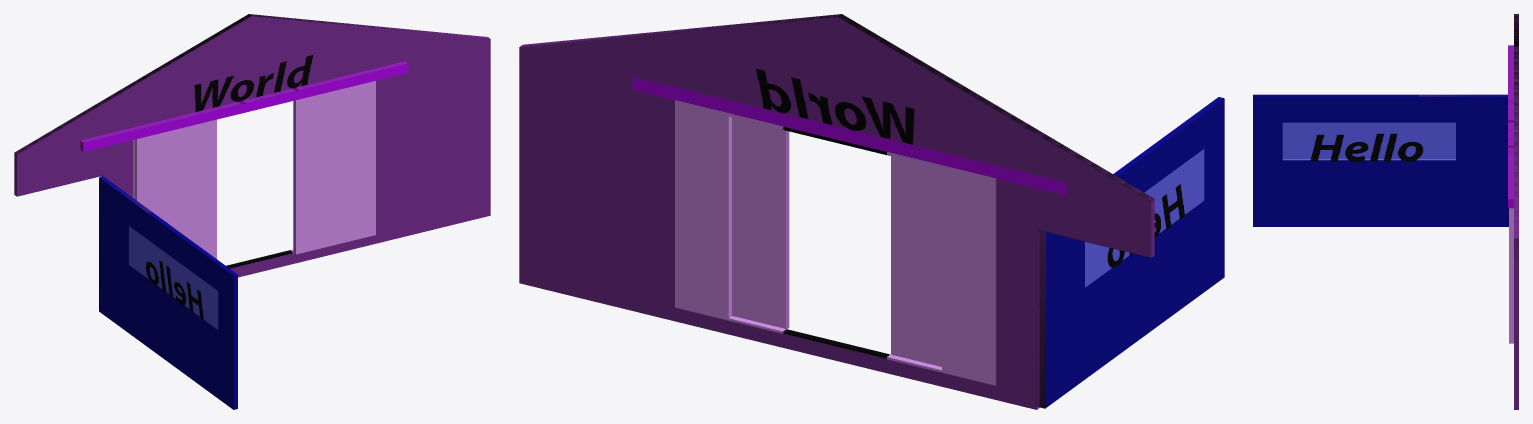
File: Fusebox-Exterior.fbx
3 views of the same model, side by side, from view 1: azimuth 30°, elevation 25°; view 2: azimuth 150°, elevation 25°; view 3: azimuth 270°, elevation 25° (orthographic). The views are drawn at different scales.
Parts seen in each view (by area): view 1: FuseBox_Face; view 2: FuseBox_Face; view 3: FuseBox_Face.
Boxes of the visible parts, x1,y1,x2,y2 form: FuseBox_Face: (14, 14, 490, 409); FuseBox_Face: (519, 14, 1224, 409); FuseBox_Face: (1253, 14, 1518, 409).
Size of the model in its own units: 1099 by 574 by 551.
